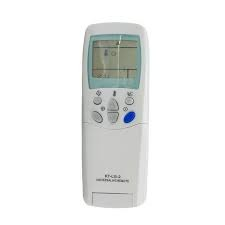remote control: (76, 19, 152, 207)
